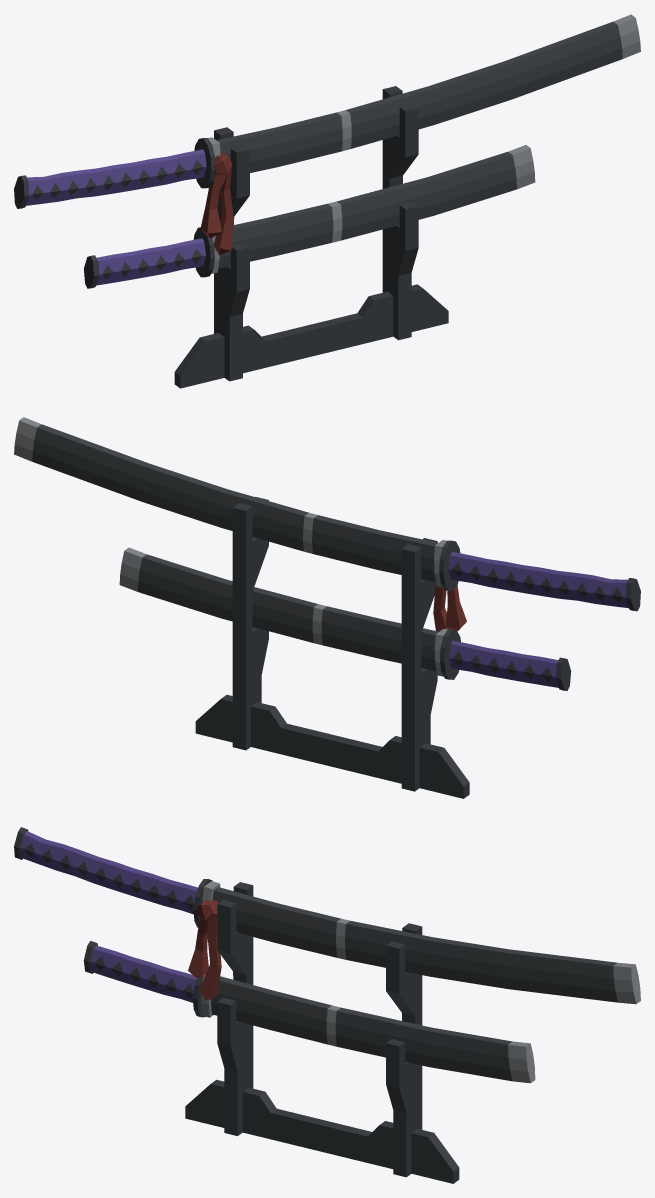
File: SM_Prop_Sword_Display_01.obj
3 views of the same model, one above another, from view 1: azimuth 30°, elevation 25°; view 2: azimuth 150°, elevation 25°; view 3: azimuth 330°, elevation 25° (orthographic).
Parts seen in each view (by area): view 1: SM_Prop_Sword_Display_01_0; view 2: SM_Prop_Sword_Display_01_0; view 3: SM_Prop_Sword_Display_01_0.
Part boxes in pixels (x1=…): SM_Prop_Sword_Display_01_0: x1=14, y1=14, x2=640, y2=388; SM_Prop_Sword_Display_01_0: x1=14, y1=417, x2=640, y2=798; SM_Prop_Sword_Display_01_0: x1=14, y1=827, x2=640, y2=1183.
Size of the model in its own units: 1.56 by 0.6344 by 0.1064.
1 material, 1 textured.
